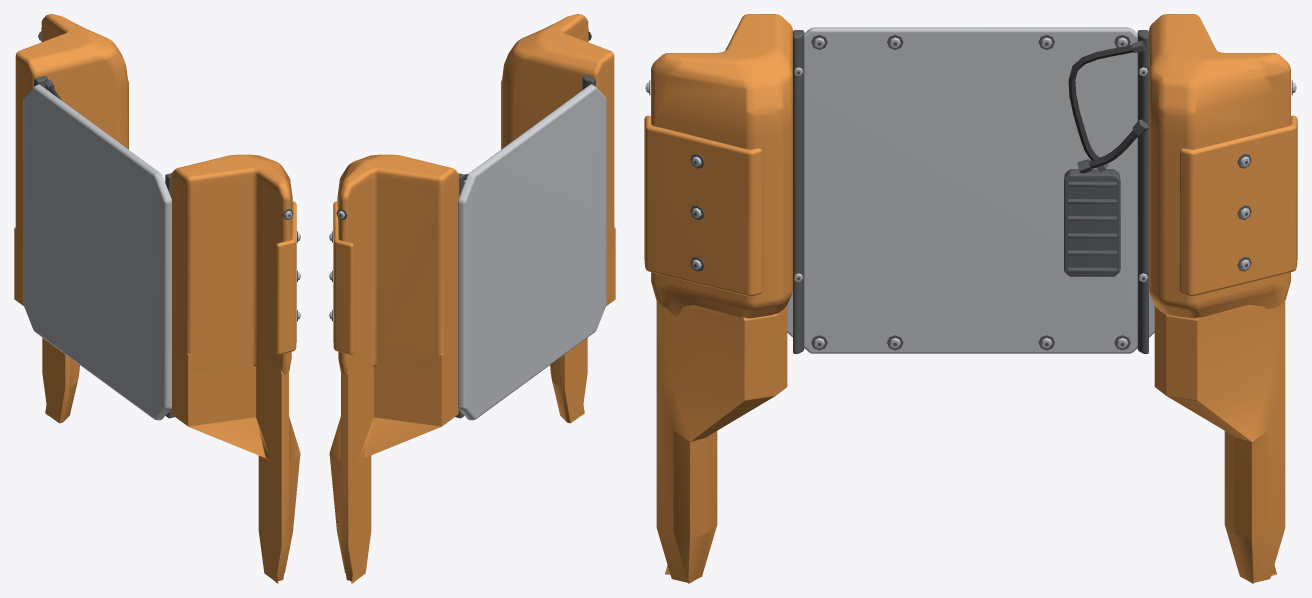
Rendered from plate_wedge_top.glb.
3 renders of one model, left to right at view 1: azimuth 30°, elevation 25°; view 2: azimuth 150°, elevation 25°; view 3: azimuth 270°, elevation 25°, orthographic. The views are drawn at different scales.
Visible parts, largest first — view 1: body; view 2: body; view 3: body.
Boxes of the visible parts, box(x1,y1,x2,y2) form: body: box(14, 14, 300, 583); body: box(329, 14, 615, 583); body: box(644, 14, 1297, 583).
Bounding box in the file's own units: 0.1898 × 0.6106 × 0.6897.
